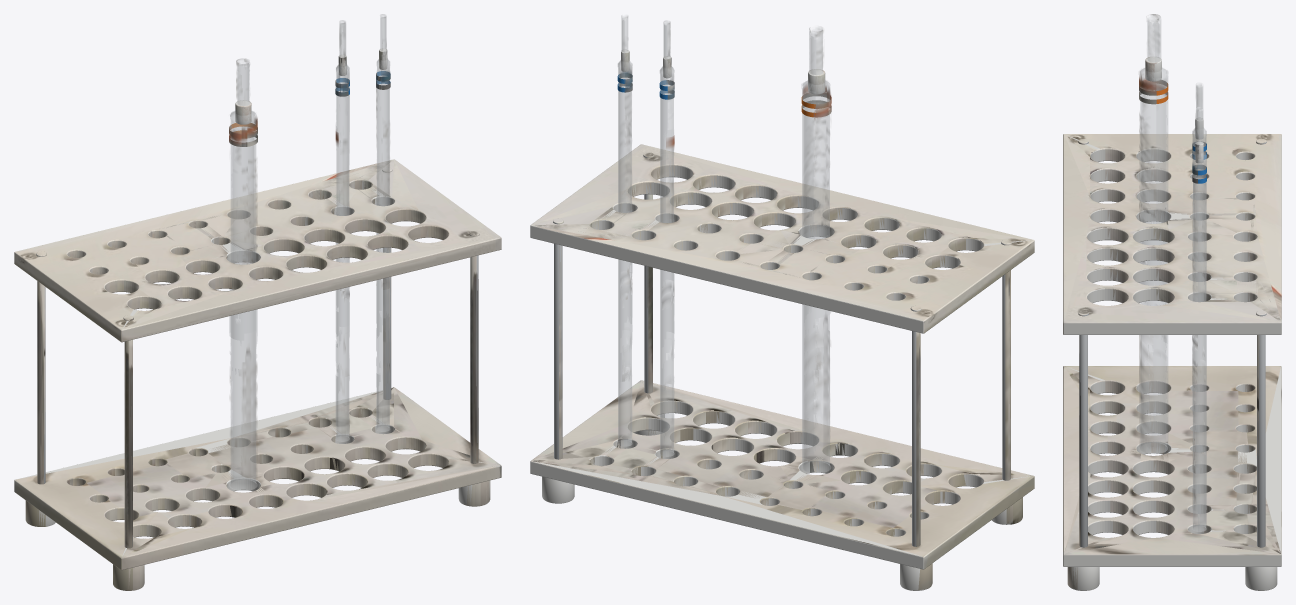
The model's file is rack.glb.
3 views of the same model, side by side, from view 1: azimuth 30°, elevation 25°; view 2: azimuth 150°, elevation 25°; view 3: azimuth 270°, elevation 25° (orthographic). The views are drawn at different scales.
Parts seen in each view (by area): view 1: Rack_Top_Plate_32_Open_Holes, Rack_Bottom_Plate_32_Open_Holes, Pipette_Large_Orange, Pipette_Small_Blue_A, Pipette_Small_Blue_B, Rack_Post_4, Rack_Post_3, Rack_Post_2, Rack_Post_1, Rack_Foot_4, Rack_Foot_3; view 2: Rack_Top_Plate_32_Open_Holes, Rack_Bottom_Plate_32_Open_Holes, Pipette_Large_Orange, Pipette_Small_Blue_A, Pipette_Small_Blue_B, Rack_Post_1, Rack_Post_2, Rack_Post_4, Rack_Post_3, Rack_Foot_2, Rack_Foot_1; view 3: Rack_Top_Plate_32_Open_Holes, Rack_Bottom_Plate_32_Open_Holes, Pipette_Large_Orange, Pipette_Small_Blue_B, Rack_Post_1, Rack_Post_3, Pipette_Small_Blue_A, Rack_Foot_1, Rack_Foot_3, Pipette_Large_Orange_White_Insert.
Boxes of the visible parts, x1,y1,x2,y2 form: Rack_Top_Plate_32_Open_Holes: [14, 159, 501, 342]; Rack_Bottom_Plate_32_Open_Holes: [14, 387, 501, 570]; Pipette_Large_Orange: [229, 58, 257, 490]; Pipette_Small_Blue_A: [335, 20, 349, 441]; Pipette_Small_Blue_B: [376, 14, 390, 431]; Rack_Post_4: [124, 339, 132, 548]; Rack_Post_3: [470, 255, 478, 463]; Rack_Post_2: [37, 281, 45, 484]; Rack_Post_1: [383, 247, 391, 399]; Rack_Foot_4: [113, 564, 144, 590]; Rack_Foot_3: [458, 480, 490, 506]; Rack_Top_Plate_32_Open_Holes: [530, 144, 1034, 333]; Rack_Bottom_Plate_32_Open_Holes: [530, 380, 1034, 569]; Pipette_Large_Orange: [802, 26, 831, 473]; Pipette_Small_Blue_A: [660, 20, 674, 456]; Pipette_Small_Blue_B: [618, 15, 632, 446]; Rack_Post_1: [554, 243, 562, 459]; Rack_Post_2: [912, 331, 920, 546]; Rack_Post_4: [1002, 270, 1010, 480]; Rack_Post_3: [644, 194, 652, 393]; Rack_Foot_2: [900, 563, 932, 590]; Rack_Foot_1: [542, 476, 574, 503]; Rack_Top_Plate_32_Open_Holes: [1063, 134, 1281, 334]; Rack_Bottom_Plate_32_Open_Holes: [1063, 366, 1281, 566]; Pipette_Large_Orange: [1139, 14, 1168, 453]; Pipette_Small_Blue_B: [1192, 107, 1206, 531]; Rack_Post_1: [1257, 335, 1265, 547]; Rack_Post_3: [1079, 335, 1087, 547]; Pipette_Small_Blue_A: [1192, 83, 1206, 510]; Rack_Foot_1: [1245, 567, 1277, 590]; Rack_Foot_3: [1067, 567, 1099, 590]; Pipette_Large_Orange_White_Insert: [1145, 56, 1161, 81].
Size of the model in its own units: 2.4 by 2.78 by 1.17.
Materials: 84 (79 with a texture image).
